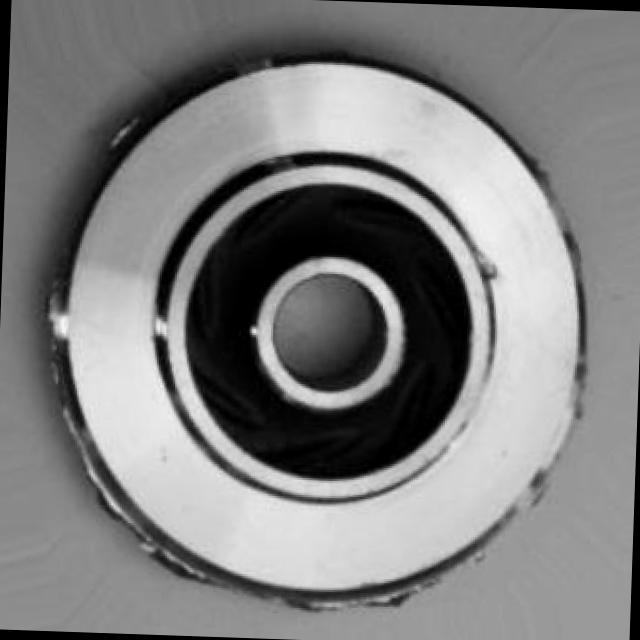Defect: (471, 242, 508, 300)
